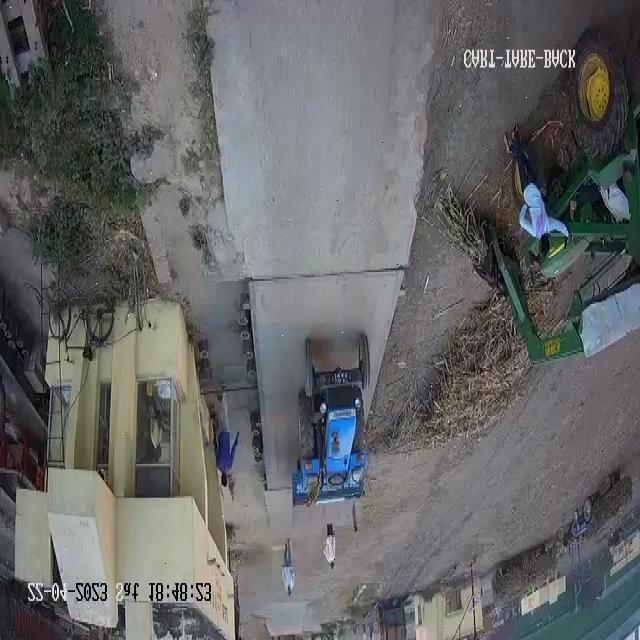Tratores - v5 YOLO V8L 2024-11-13: (303, 320, 373, 495)
